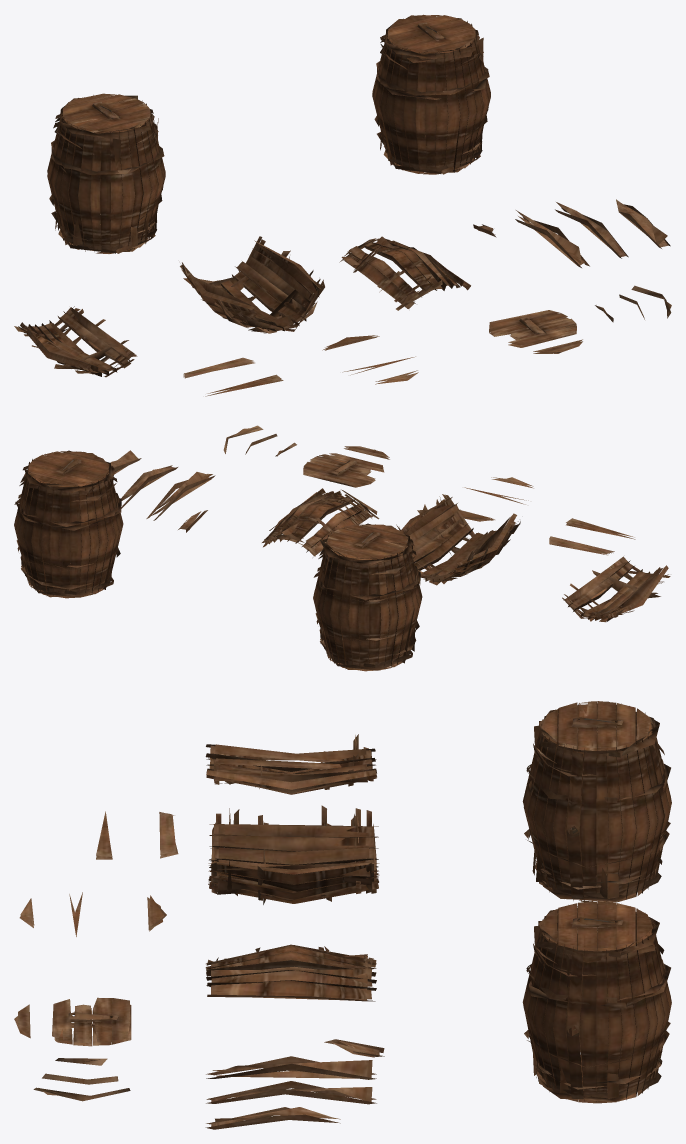
File: wooden_barrels_01_1k.gltf.lod.glb
The picture shows the model from 3 angles, top to bottom: view 1: azimuth 30°, elevation 25°; view 2: azimuth 150°, elevation 25°; view 3: azimuth 270°, elevation 25°; orthographic projection. The views are drawn at different scales.
Parts seen in each view (by area): view 1: wooden_barrels_01_barrel01, wooden_barrels_01_barrel02, wooden_barrels_01_piece01, wooden_barrels_01_piece03, wooden_barrels_01_piece02, wooden_barrels_01_piece08, wooden_barrels_01_piece04, wooden_barrels_01_piece05, wooden_barrels_01_piece06; view 2: wooden_barrels_01_barrel02, wooden_barrels_01_barrel01, wooden_barrels_01_piece01, wooden_barrels_01_piece02, wooden_barrels_01_piece03, wooden_barrels_01_piece08, wooden_barrels_01_piece04, wooden_barrels_01_piece05, wooden_barrels_01_piece13, wooden_barrels_01_piece14; view 3: wooden_barrels_01_barrel01, wooden_barrels_01_barrel02, wooden_barrels_01_piece01, wooden_barrels_01_piece03, wooden_barrels_01_piece02, wooden_barrels_01_piece08, wooden_barrels_01_piece04, wooden_barrels_01_piece05, wooden_barrels_01_piece06, wooden_barrels_01_piece13.
Part boxes in pixels (x1,y1,x2,y2): wooden_barrels_01_barrel01: (372, 14, 490, 174); wooden_barrels_01_barrel02: (47, 93, 165, 253); wooden_barrels_01_piece01: (180, 236, 324, 333); wooden_barrels_01_piece03: (339, 236, 470, 310); wooden_barrels_01_piece02: (14, 306, 137, 377); wooden_barrels_01_piece08: (489, 310, 576, 347); wooden_barrels_01_piece04: (515, 210, 589, 267); wooden_barrels_01_piece05: (555, 202, 628, 258); wooden_barrels_01_piece06: (616, 199, 670, 248); wooden_barrels_01_barrel02: (313, 523, 422, 671); wooden_barrels_01_barrel01: (14, 450, 123, 598); wooden_barrels_01_piece01: (396, 494, 520, 585); wooden_barrels_01_piece02: (562, 556, 670, 622); wooden_barrels_01_piece03: (262, 488, 379, 556); wooden_barrels_01_piece08: (303, 453, 384, 487); wooden_barrels_01_piece04: (146, 472, 215, 520); wooden_barrels_01_piece05: (121, 465, 177, 508); wooden_barrels_01_piece13: (549, 536, 614, 555); wooden_barrels_01_piece14: (566, 518, 635, 539); wooden_barrels_01_barrel01: (522, 901, 671, 1103); wooden_barrels_01_barrel02: (522, 701, 671, 902); wooden_barrels_01_piece01: (208, 805, 379, 904); wooden_barrels_01_piece03: (205, 944, 376, 1001); wooden_barrels_01_piece02: (205, 734, 376, 794); wooden_barrels_01_piece08: (52, 997, 131, 1046); wooden_barrels_01_piece04: (206, 1056, 376, 1079); wooden_barrels_01_piece05: (206, 1081, 376, 1104); wooden_barrels_01_piece06: (205, 1107, 340, 1129); wooden_barrels_01_piece13: (159, 812, 178, 858).
Size of the model in its own units: 4.44 by 0.9495 by 3.36.
3 materials, 3 textured.
